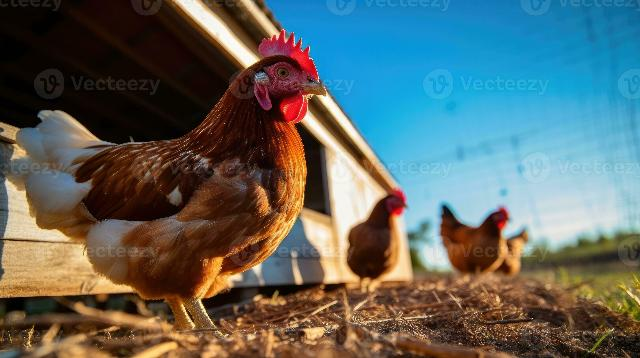Chicken: (5, 29, 330, 341)
